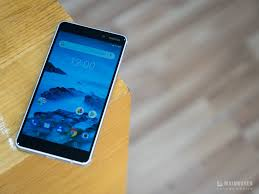nokia: (18, 18, 129, 168)
